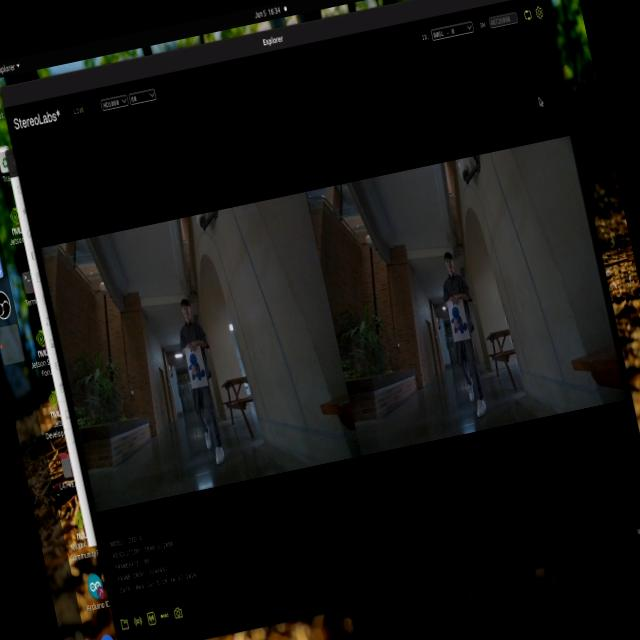blue: (184, 348, 208, 388), (448, 304, 470, 338)
